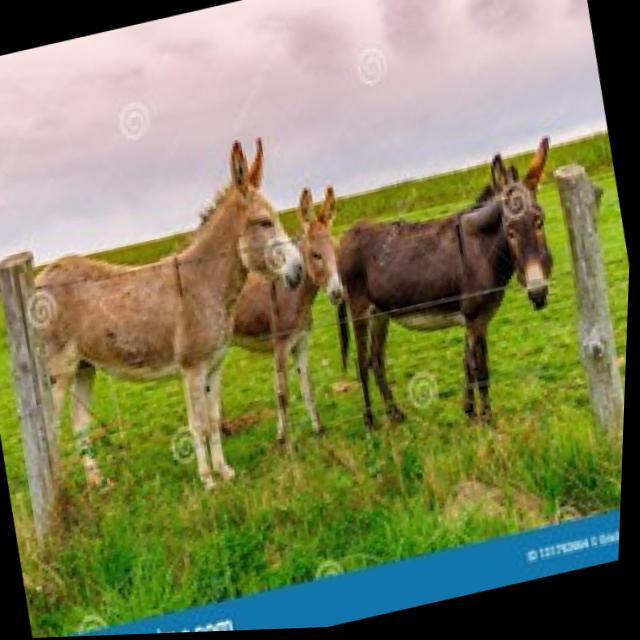Donkey: (0, 146, 344, 564), (282, 116, 622, 448), (174, 140, 404, 476)
